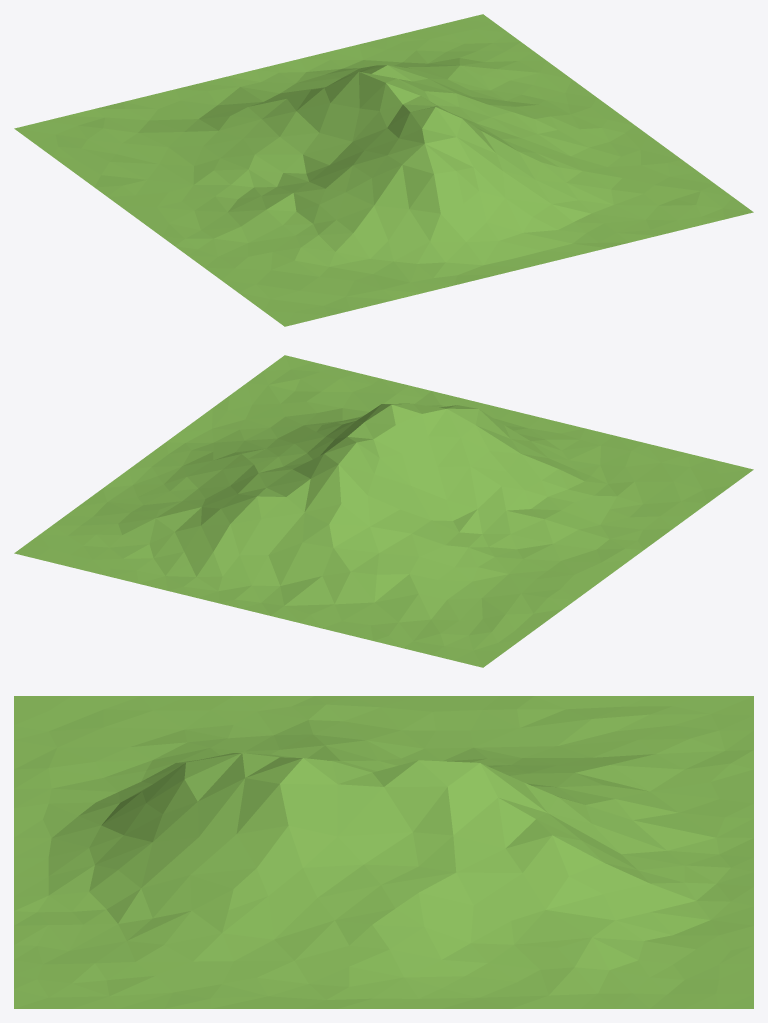
Rendered from MT_Terrain_M_a_24_LOD.fbx.
The picture shows the model from 3 angles, top to bottom: view 1: azimuth 30°, elevation 25°; view 2: azimuth 150°, elevation 25°; view 3: azimuth 270°, elevation 25°; orthographic projection. The views are drawn at different scales.
Visible parts, largest first — view 1: MT_Terrain_M_a_25_LOD0; view 2: MT_Terrain_M_a_25_LOD0; view 3: MT_Terrain_M_a_25_LOD0.
Boxes of the visible parts, left/top/right/bottom form: MT_Terrain_M_a_25_LOD0: left=14, top=14, right=753, bottom=326; MT_Terrain_M_a_25_LOD0: left=14, top=355, right=753, bottom=667; MT_Terrain_M_a_25_LOD0: left=14, top=696, right=753, bottom=1008.
Size of what is drawn, in the model's own units: 5000 by 828 by 5000.
